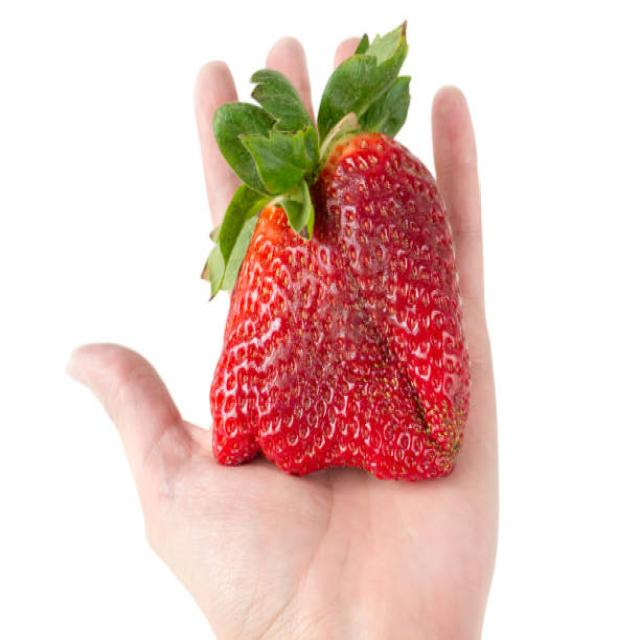Healthy Fruit: (209, 131, 472, 481)
